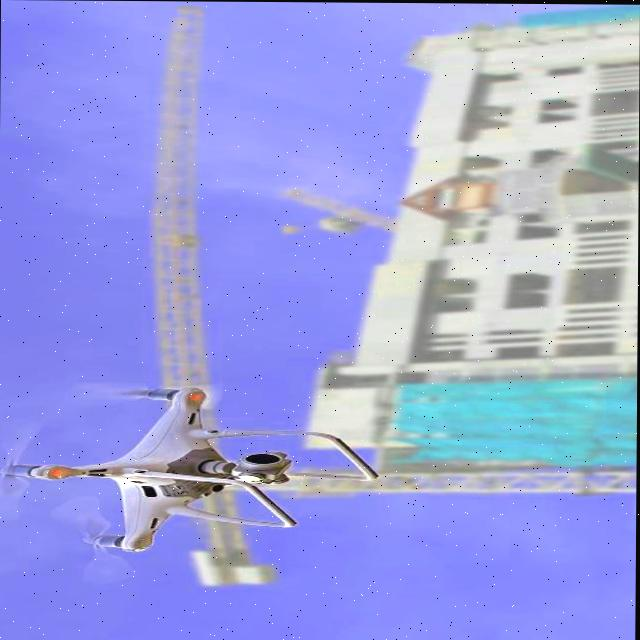drone: (28, 356, 358, 558)
